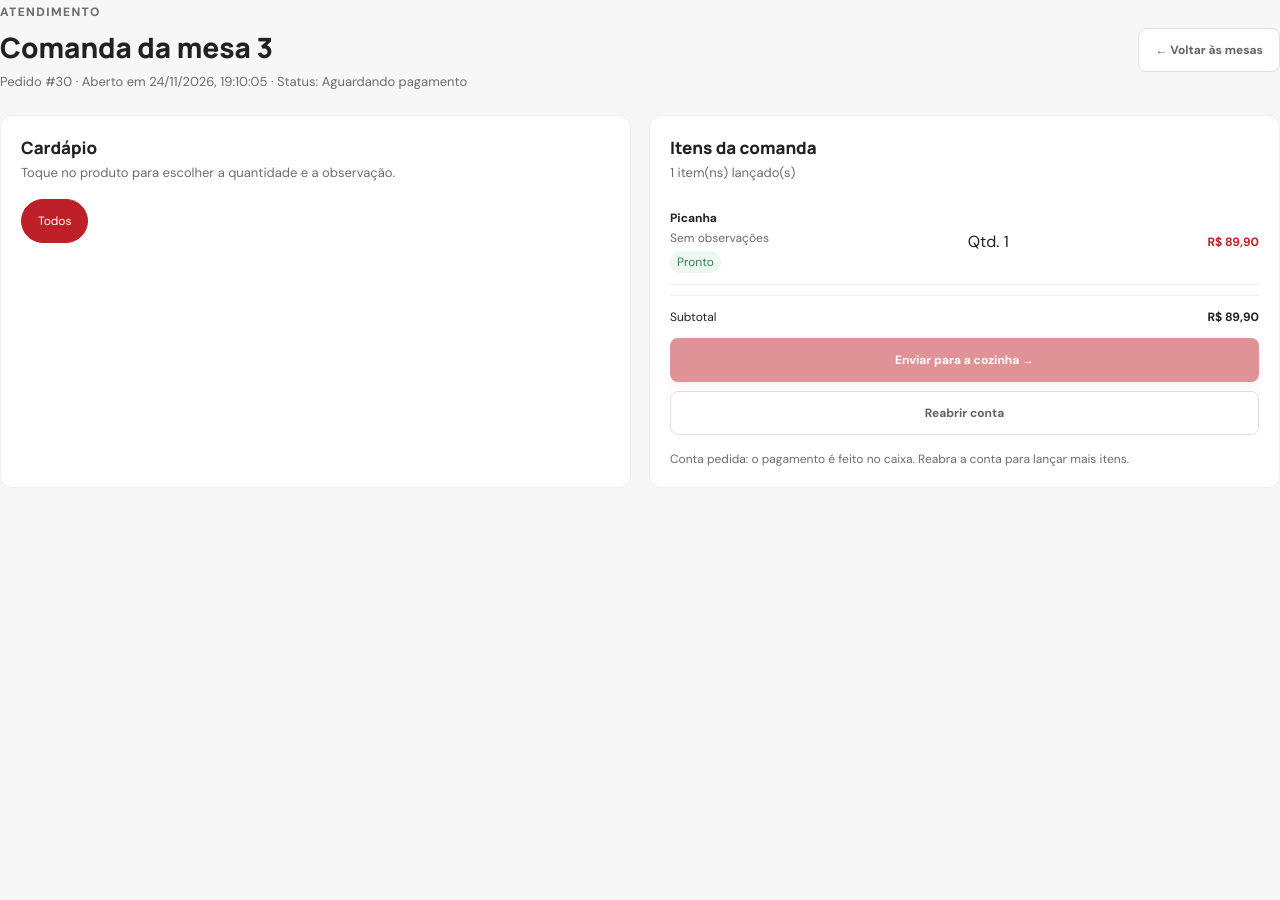
Scenario: Reabertura: erros e conflitos (spec 019, QA) › Comanda: se o caixa reabriu antes (409), a comanda é recarregada e o botão volta a ser "Pedir a conta"
Click the button "Reabrir conta" at (964, 413), box [670,391,1259,435]
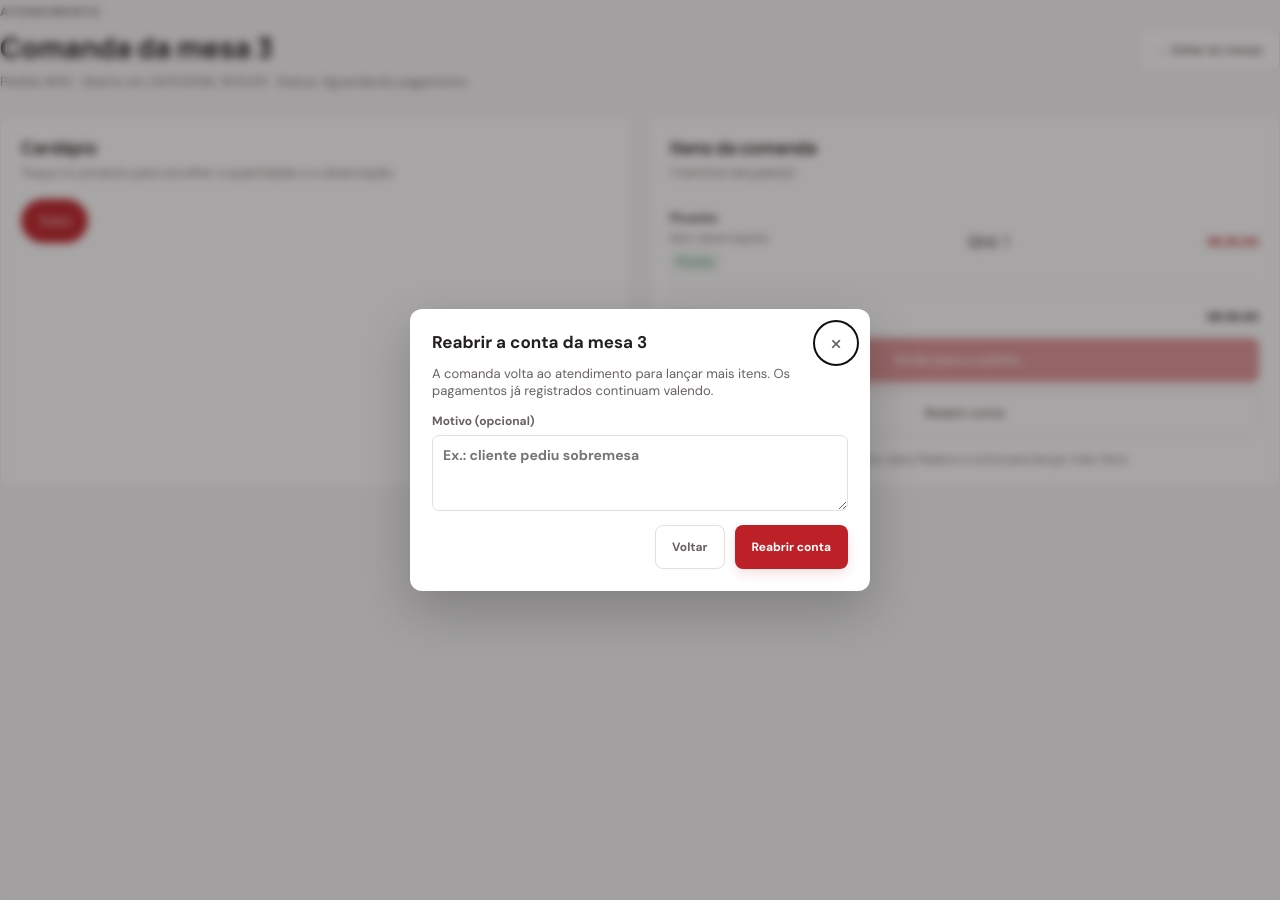
Click the button "Reabrir conta" at (791, 547), box [734,525,848,569]
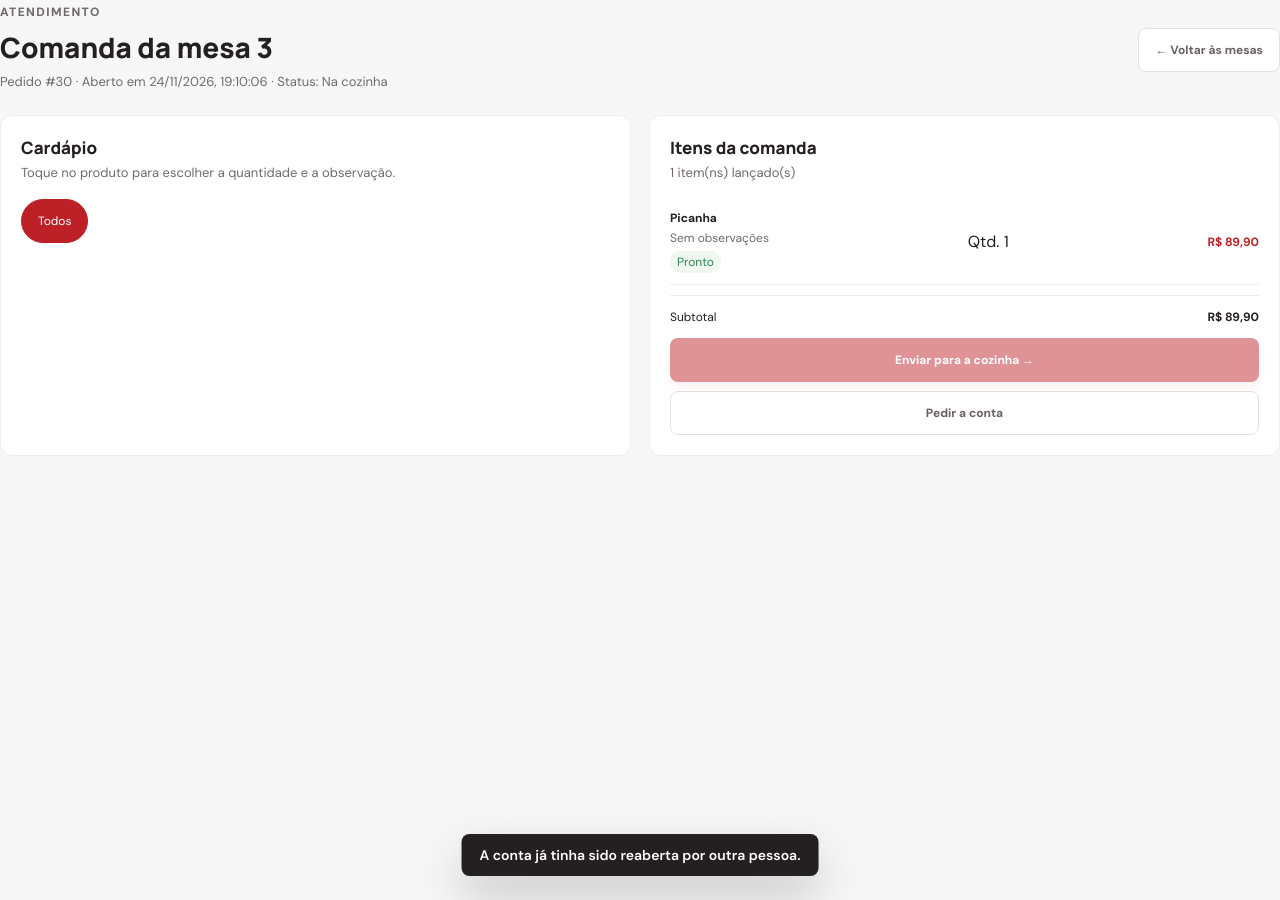
Expected: the button "Pedir a conta" is enabled, [670,391,1259,435]
Result: the text "A conta já tinha sido reaberta por outra pessoa." is shown at [462,834,818,876]
Result: the dialog is gone
